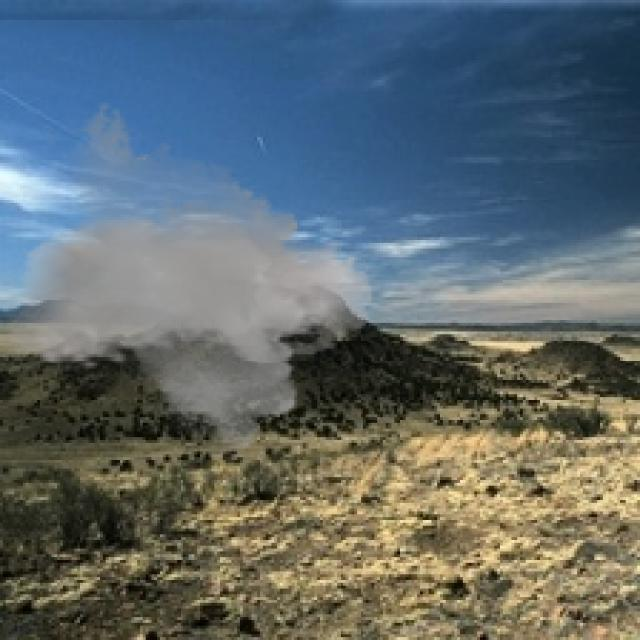smoke: (6, 100, 374, 463)
